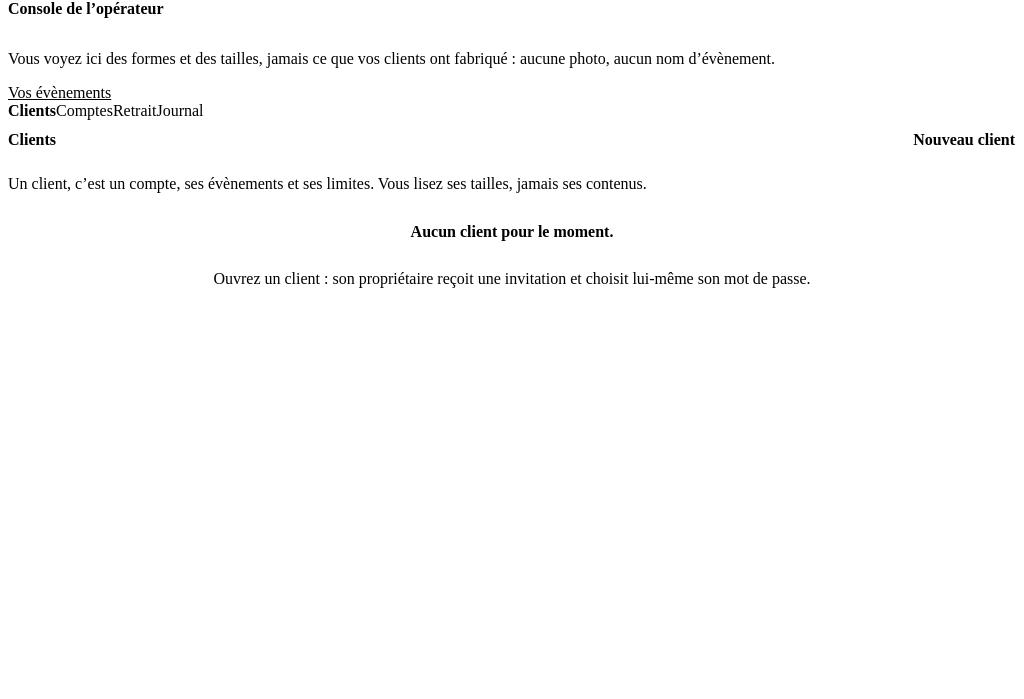
it: opening a client › tells the operator the invitation went by mail, to the address they typed, and lists the client again
The image size is (1024, 699).
Click the button "Nouveau client". click: [964, 140]
box: [912, 131, 1016, 149]
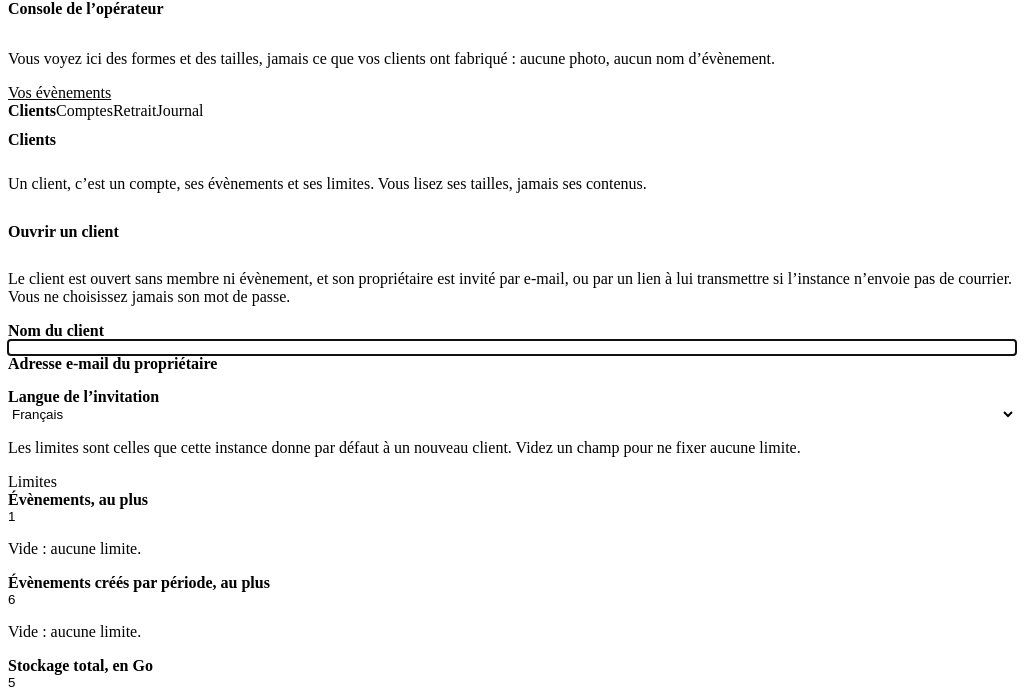
Now the field labelled "Évènements, au plus" is shown, box [8, 509, 1016, 524]
Type "Atelier Alpha" into the field labelled "Nom du client". click: [512, 348]
box: [8, 340, 1016, 355]
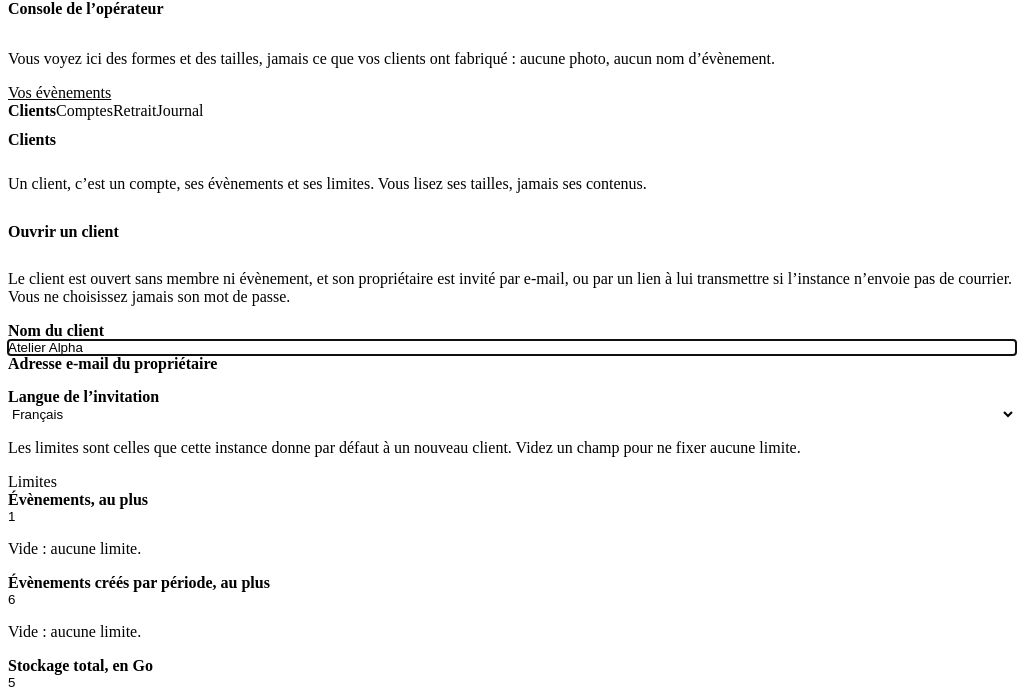
Type "camille@example.com" into the field labelled "Adresse e-mail du propriétaire". click: [512, 380]
box: [8, 373, 1016, 388]
(page scrolled)
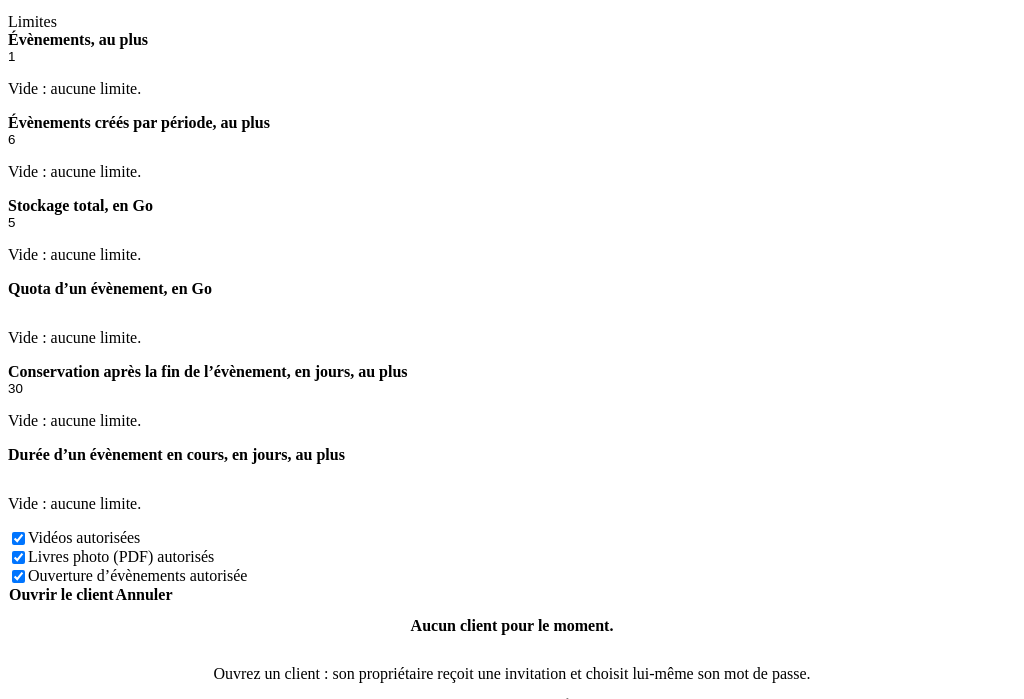
Click the button "Ouvrir le client". click: [61, 595]
box: [8, 586, 115, 604]
(page scrolled)
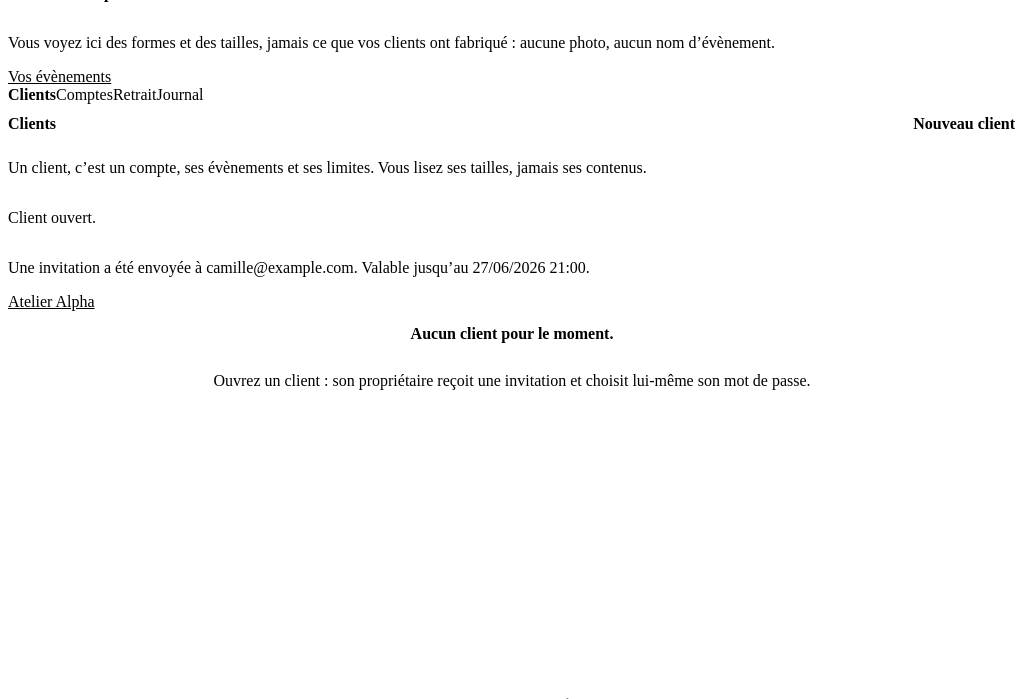
Now the text "Client ouvert." is shown, box [8, 209, 96, 226]
